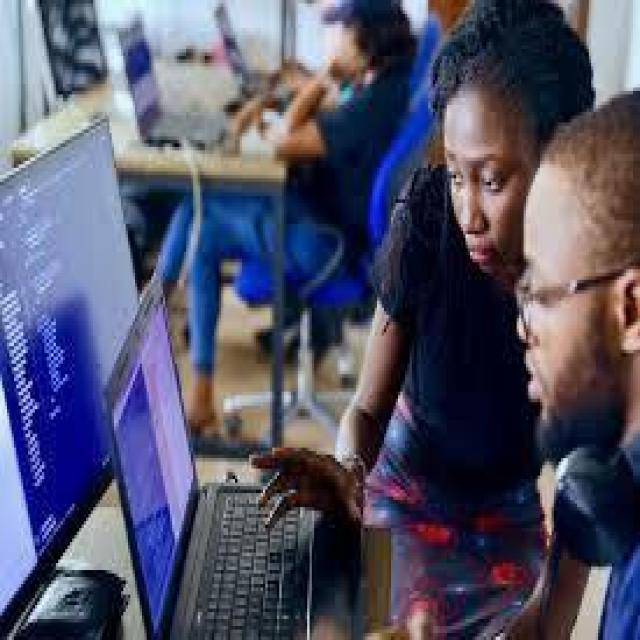person: (170, 0, 428, 413), (396, 4, 594, 468), (500, 63, 638, 507)
